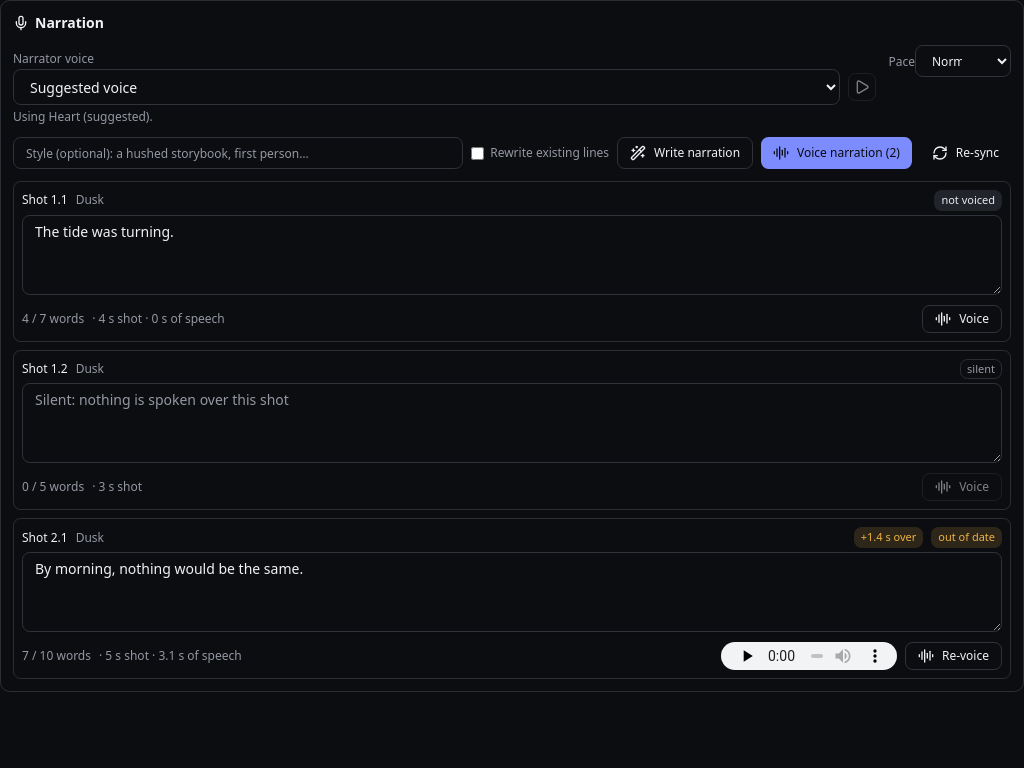
it: Write narration sends the style and the rewrite choice, then reports what it wrote
Type "a hushed storybook" into the field named "Narration style". click: (238, 153)
box: [13,137,463,169]
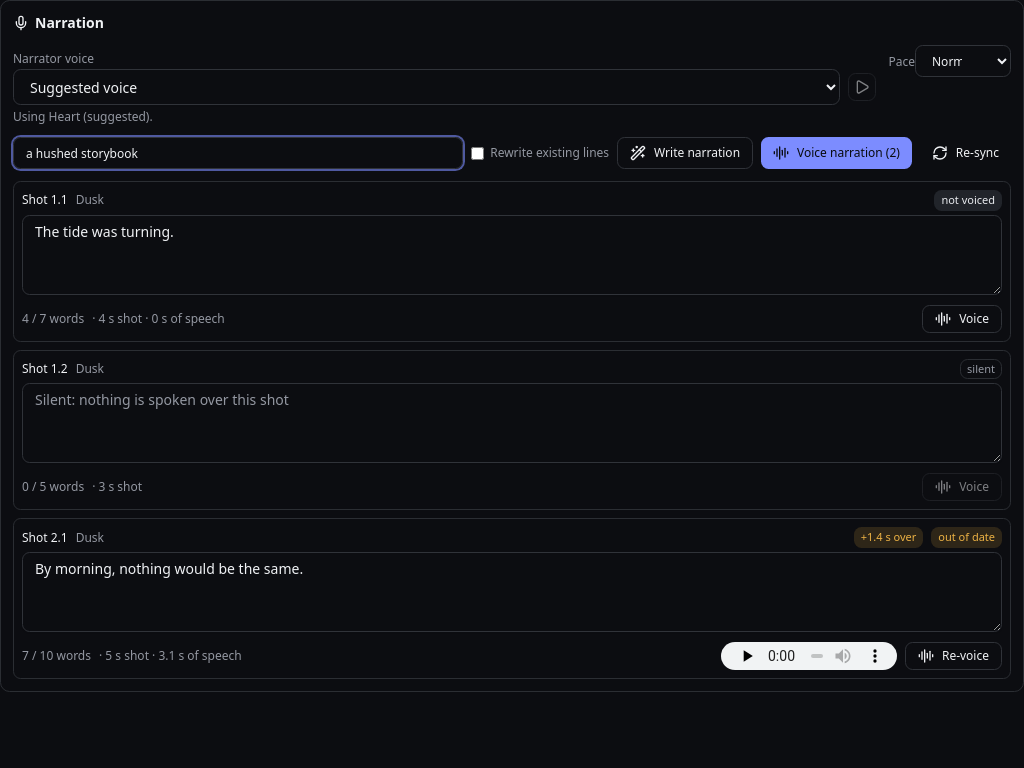
Click the checkbox labelled "Rewrite existing lines". click: (478, 153)
box: [471,146,484,160]
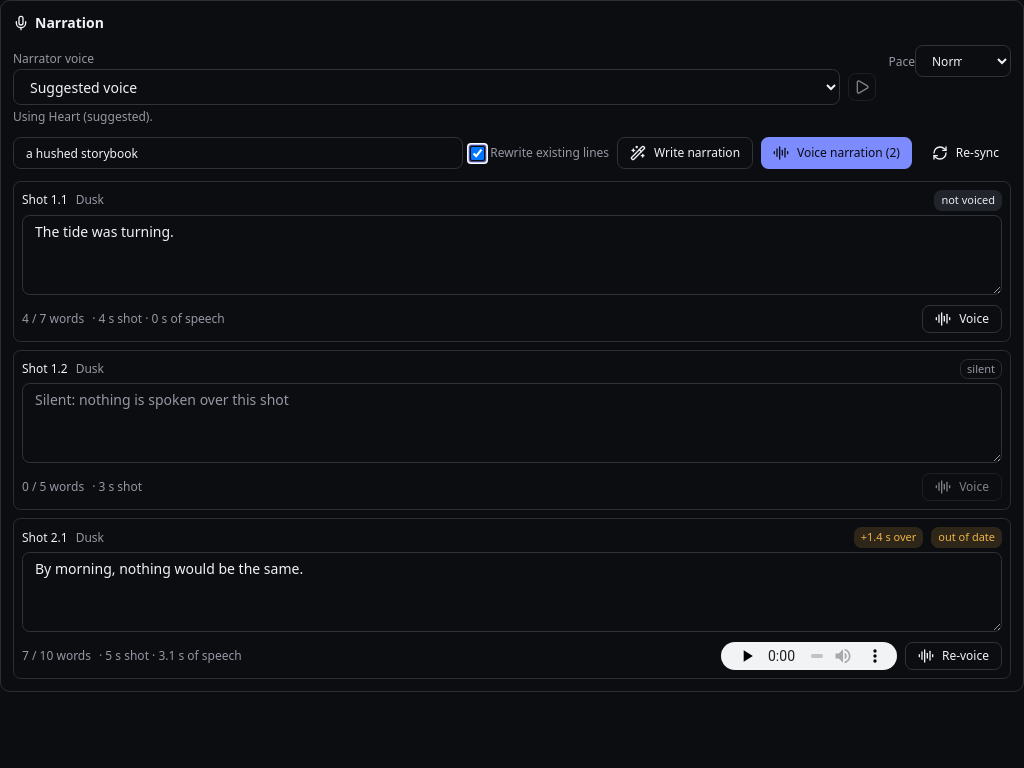
Click the button "Write narration". click: (685, 153)
box: [617,137,753,169]
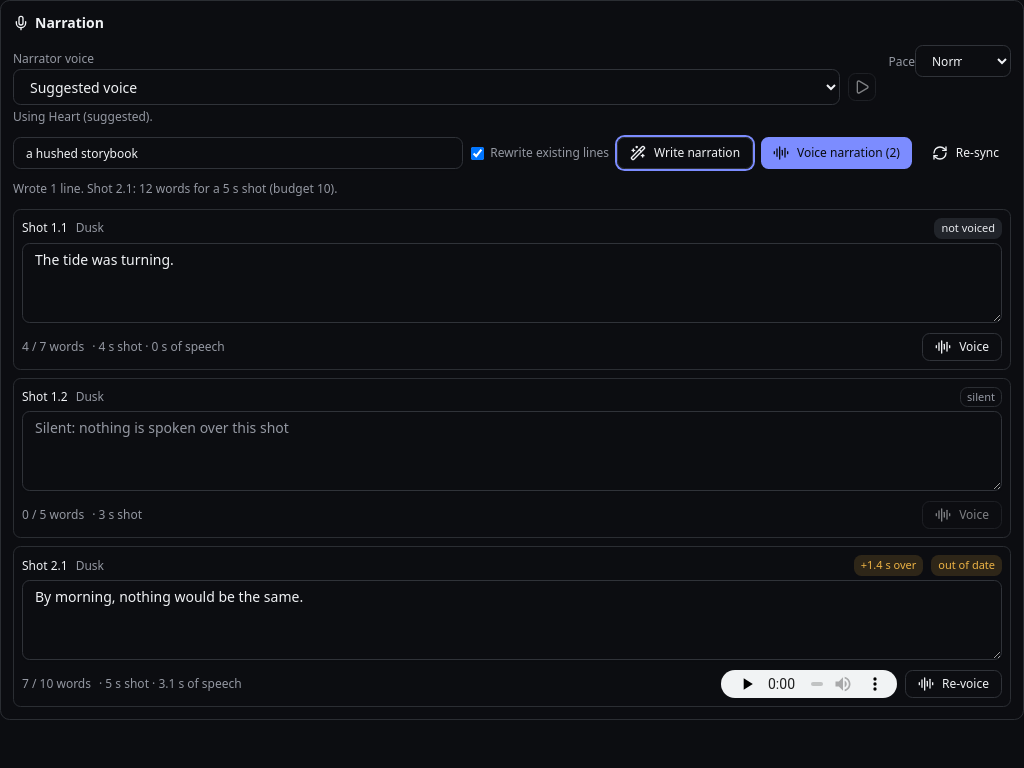
Expected: the text with test id "narration-written" reads "Wrote 1 line. Shot 2.1: 12 words for a 5 s shot (budget 10).", [13,180,337,197]
